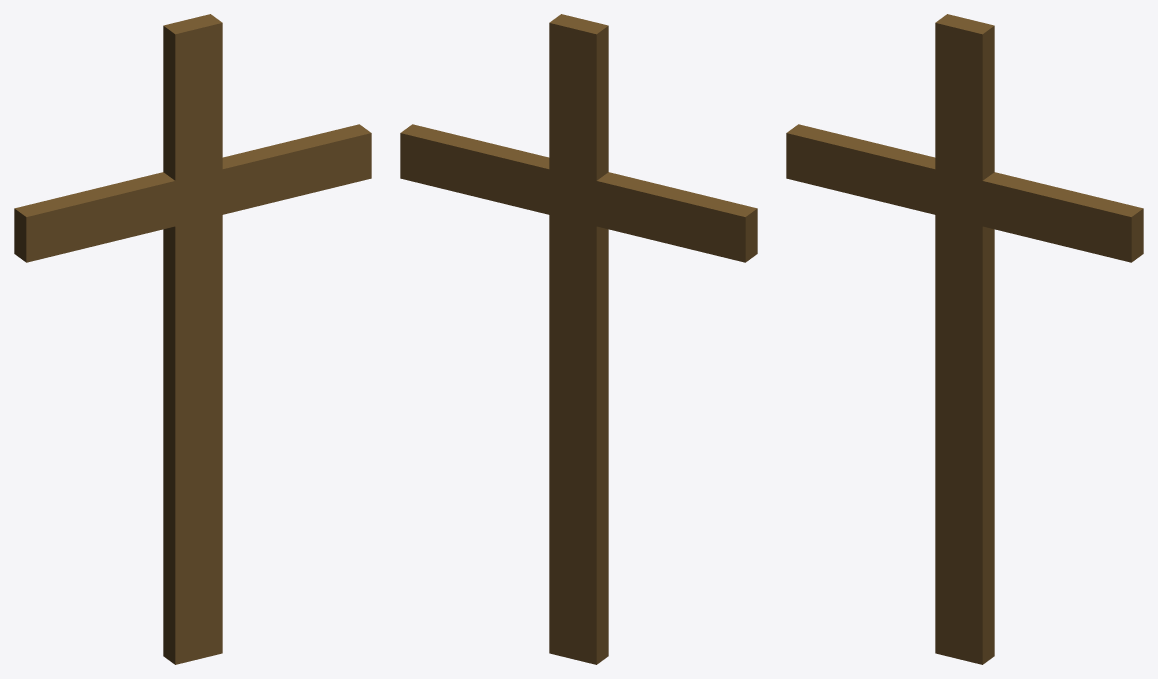
Rendered from AI_Prop_Cross.fbx.
3 views of the same model, side by side, from view 1: azimuth 30°, elevation 25°; view 2: azimuth 150°, elevation 25°; view 3: azimuth 330°, elevation 25° (orthographic).
Visible parts, largest first — view 1: AI_Prop_Cross; view 2: AI_Prop_Cross; view 3: AI_Prop_Cross.
Part boxes in pixels (x1,y1,x2,y2): AI_Prop_Cross: [14, 14, 371, 664]; AI_Prop_Cross: [400, 14, 757, 664]; AI_Prop_Cross: [786, 14, 1143, 664].
Bounding box in the file's own units: 1.2 × 2.1 × 0.0725.
